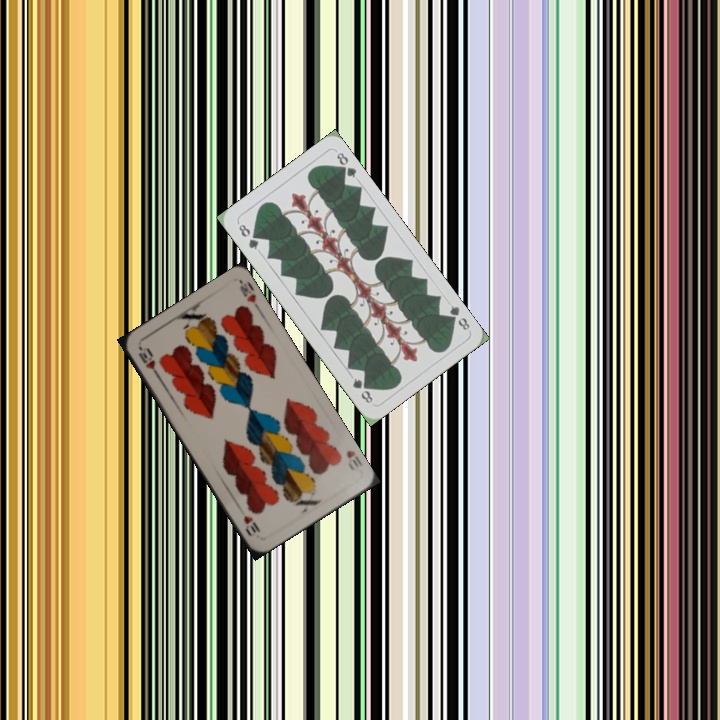G8: (443, 301, 472, 333), (234, 219, 261, 252)
H10: (134, 343, 162, 380), (342, 446, 365, 473)
